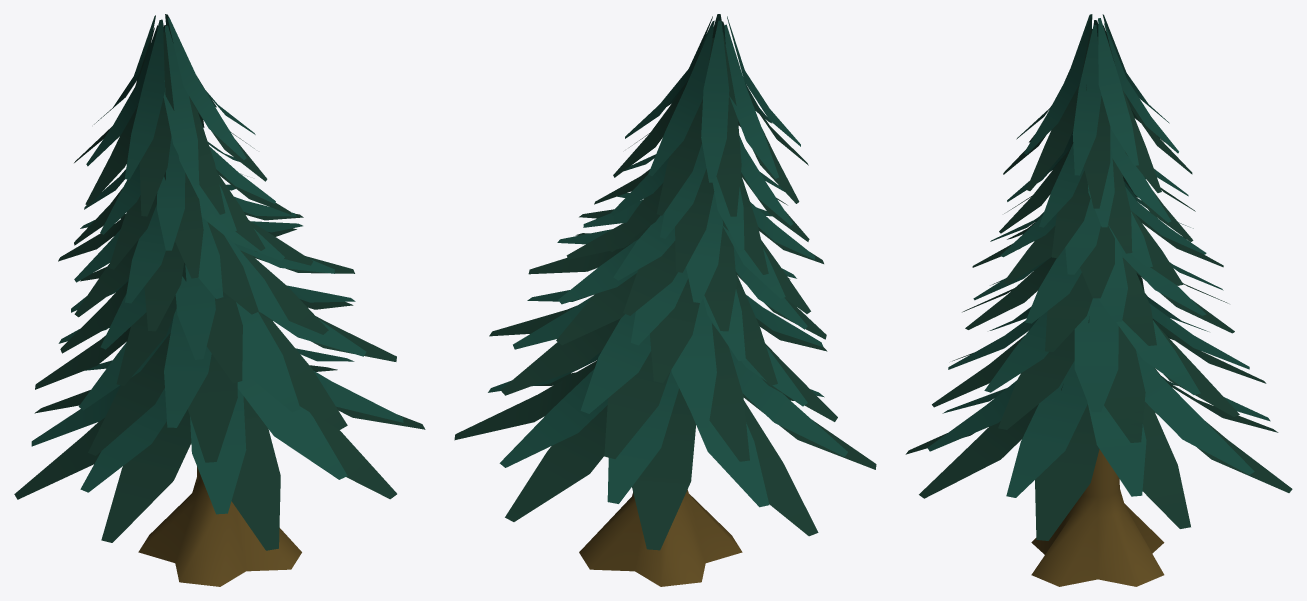
The model's file is Fir4_2.fbx.
The picture shows the model from 3 angles, left to right: view 1: azimuth 30°, elevation 25°; view 2: azimuth 150°, elevation 25°; view 3: azimuth 270°, elevation 25°; orthographic projection. The views are drawn at different scales.
Visible parts, largest first — view 1: Fir2; view 2: Fir2; view 3: Fir2.
Part boxes in pixels (bbox=[...]): Fir2: bbox=[14, 14, 425, 586]; Fir2: bbox=[454, 14, 876, 586]; Fir2: bbox=[905, 14, 1292, 586].
Size of the model in its own units: 547 by 808 by 549.
